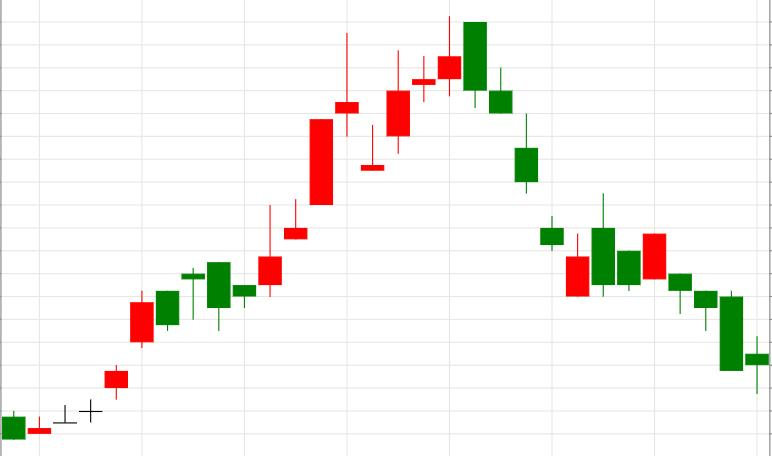shooting_star_fall: (259, 16, 461, 296)
